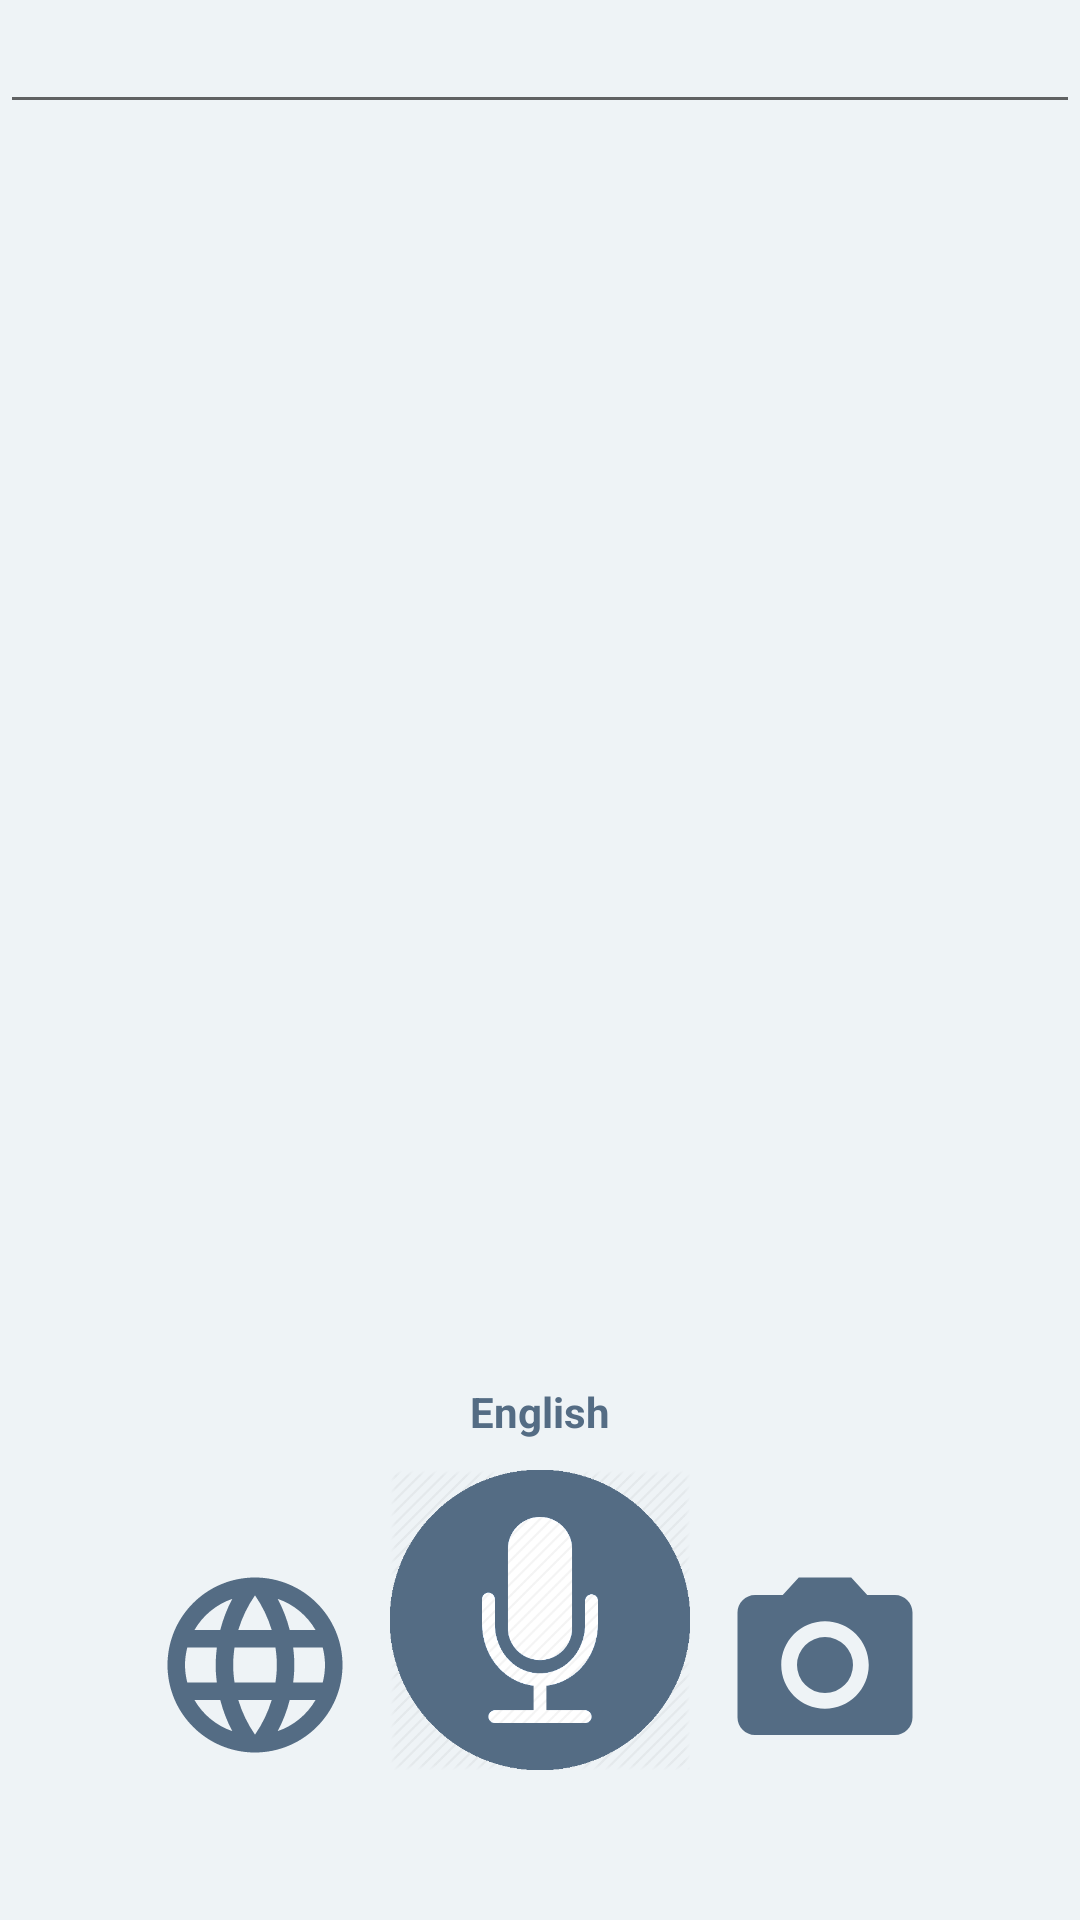

Screen size 1080x1920. Icon name, then its center in pixels as (x,y):
camera: (825,1656)
languagepic: (255,1665)
mic: (540,1620)
